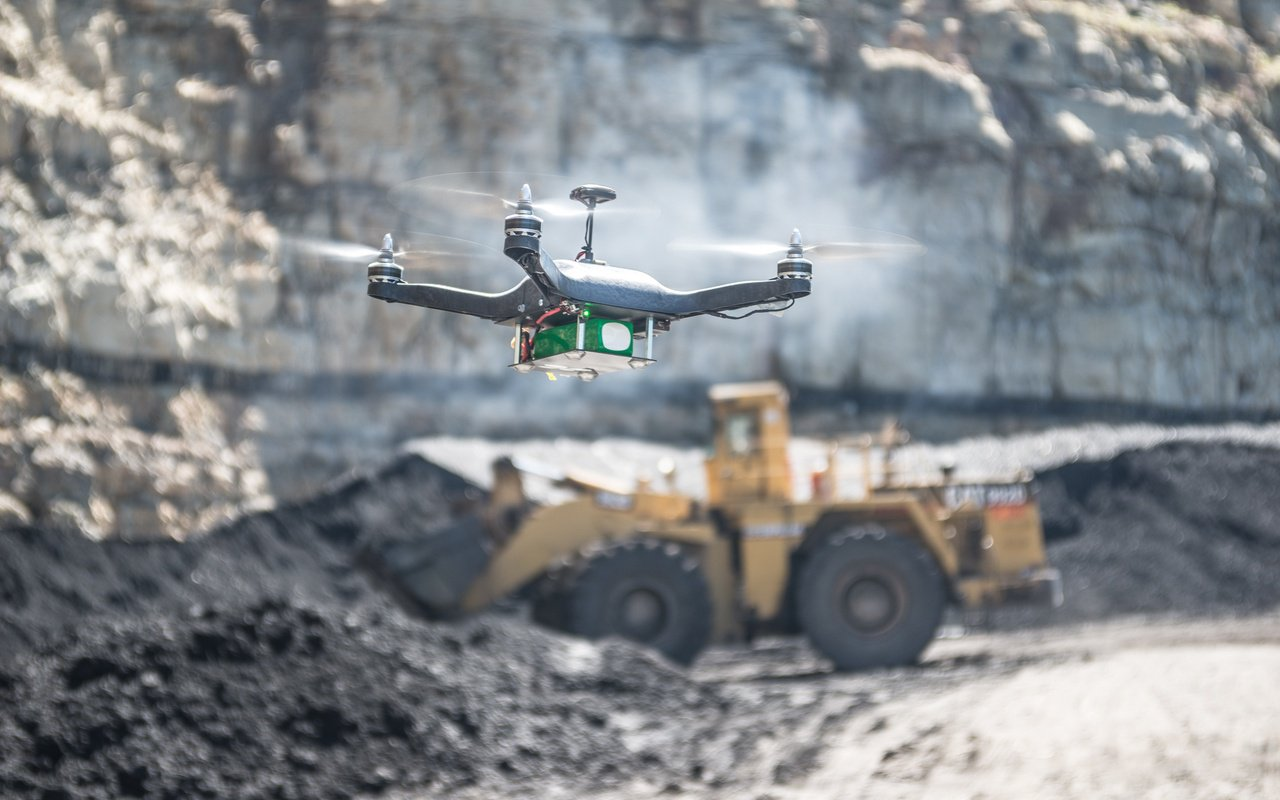drone: (282, 172, 931, 387)
